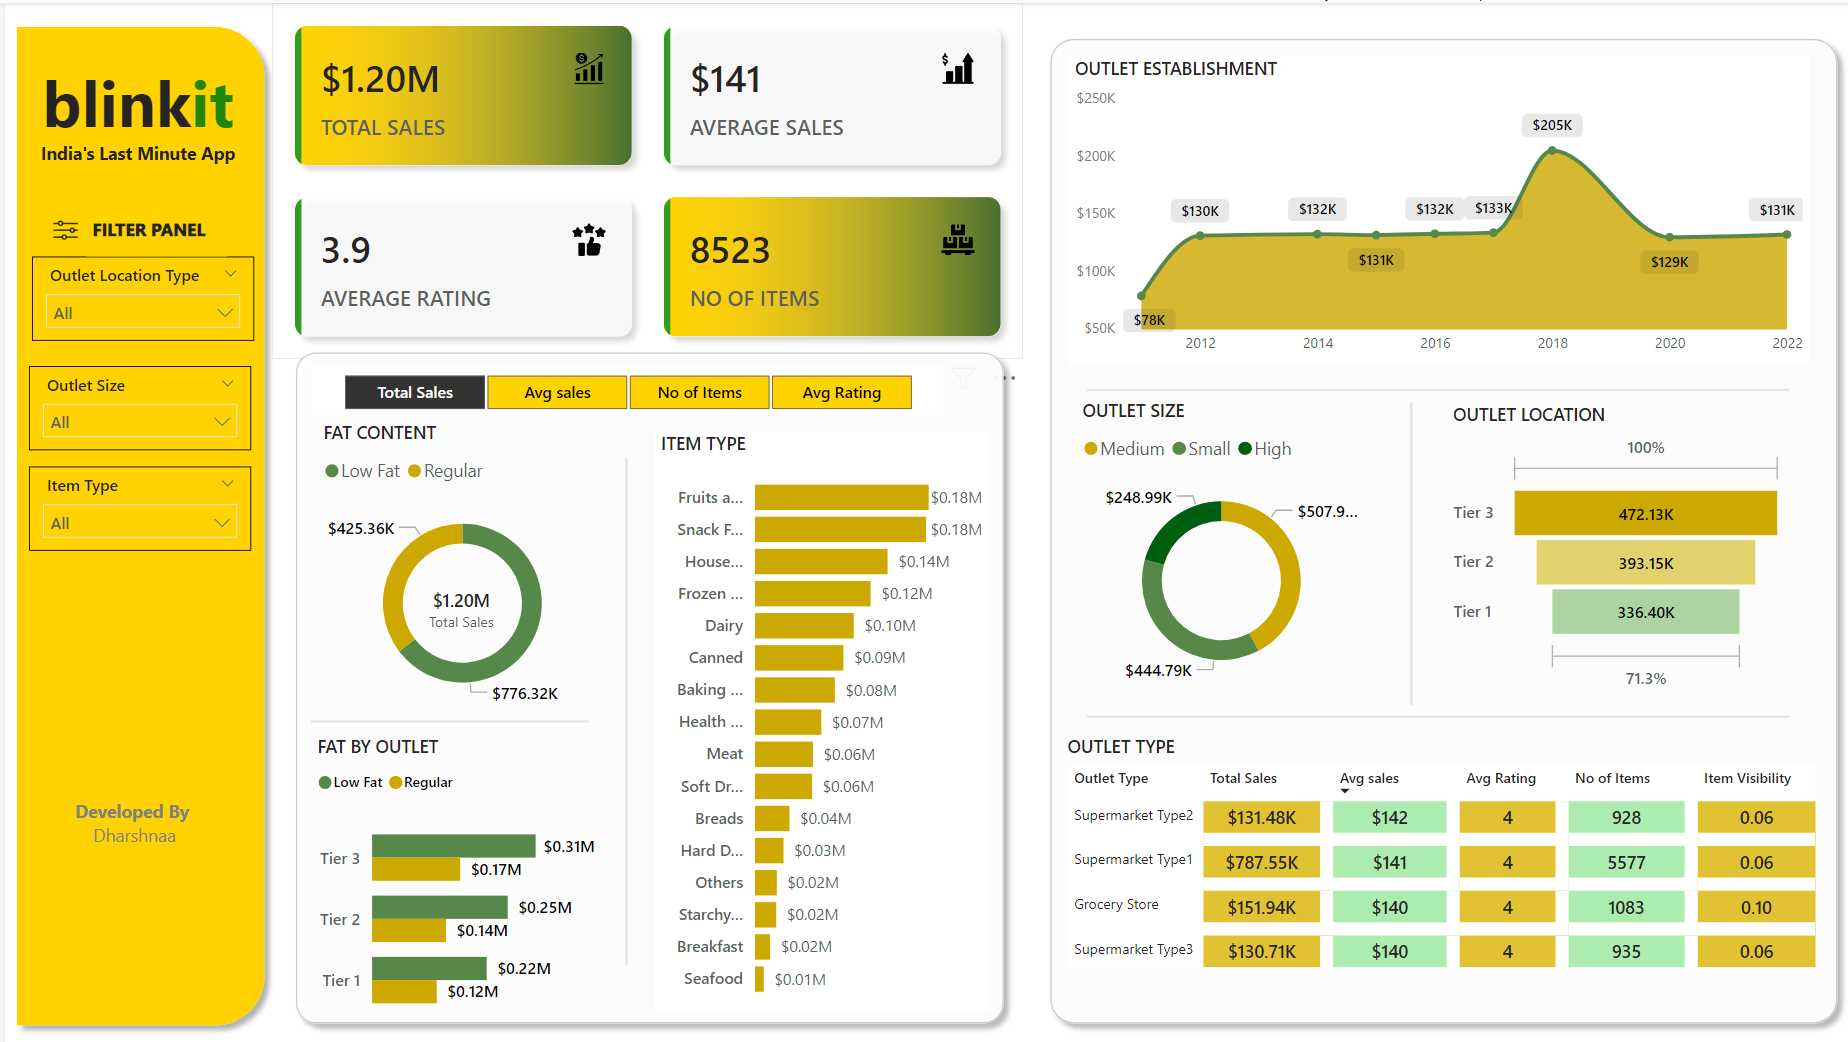

What the dashboard file says about the page in this screenshot:
{"tool":"powerbi","page":{"name":"Page 1","canvas":[1400,800],"ordinal":0},"visuals":[{"type":"shape","box":[0,8.8,206.2,776.2],"z":0},{"type":"textbox","box":[0,36.8,202.3,80.3],"z":1},{"type":"textbox","box":[15,98.6,172.2,36.8],"z":2},{"type":"cardVisual","fields":{"Data":["BlinkIT Grocery Data.Total Sales","BlinkIT Grocery Data.Avg sales","BlinkIT Grocery Data.Avg Rating","BlinkIT Grocery Data.No of Items"]},"box":[202.5,0,570,270],"z":3},{"type":"shape","box":[211.2,256.2,555,527.5],"z":4},{"type":"donutChart","title":" FAT CONTENT","fields":{"Category":["BlinkIT Grocery Data.Item Fat Content"],"Y":["BlinkIT Grocery Data.Total Sales"]},"box":[236.2,316.2,220,230],"z":7},{"type":"slicer","fields":{"Values":["Metrics.Metrics"]},"box":[232.5,275,480,37.5],"z":8},{"type":"cardVisual","fields":{"Data":["BlinkIT Grocery Data.Total Sales"]},"box":[290,425,112.5,70],"z":9},{"type":"clusteredBarChart","title":"FAT BY OUTLET","fields":{"Y":["BlinkIT Grocery Data.Total Sales"],"Category":["BlinkIT Grocery Data.Outlet Location Type"],"Series":["BlinkIT Grocery Data.Item Fat Content"]},"box":[232.5,555,220,230],"z":10},{"type":"shape","box":[232.5,537.5,211.2,16.2],"z":11},{"type":"shape","box":[447.5,345,48.8,385],"z":12},{"type":"barChart","title":"ITEM TYPE","fields":{"Category":["BlinkIT Grocery Data.Item Type"],"Y":["BlinkIT Grocery Data.Total Sales"]},"box":[492.5,325,253.8,441.2],"z":13},{"type":"shape","box":[785,18.8,615,765],"z":14},{"type":"lineChart","title":"OUTLET ESTABLISHMENT","fields":{"Category":["BlinkIT Grocery Data.Outlet Establishment Year"],"Y":["BlinkIT Grocery Data.Total Sales"]},"box":[807.5,40,562.5,235],"z":15},{"type":"donutChart","title":"OUTLET SIZE","fields":{"Y":["BlinkIT Grocery Data.Total Sales"],"Category":["BlinkIT Grocery Data.Outlet Size"]},"box":[812.5,300,220,230],"z":16},{"type":"shape","box":[821.2,286.2,533.8,16.2],"z":17},{"type":"funnel","title":"OUTLET LOCATION","fields":{"Y":["Sum(BlinkIT Grocery Data.Sales)"],"Category":["BlinkIT Grocery Data.Outlet Location Type"]},"box":[1093.8,302.5,261.2,225],"z":18},{"type":"shape","box":[821.2,537.5,533.8,8.8],"z":19},{"type":"shape","box":[1061.2,302.5,12.5,230],"z":20},{"type":"pivotTable","title":"OUTLET TYPE","fields":{"Rows":["BlinkIT Grocery Data.Outlet Type"],"Values":["BlinkIT Grocery Data.Total Sales","BlinkIT Grocery Data.Avg sales","BlinkIT Grocery Data.Avg Rating","BlinkIT Grocery Data.No of Items","Avg(BlinkIT Grocery Data.Item Visibility)"]},"box":[801.2,555,583.8,211.2],"z":23},{"type":"slicer","fields":{"Values":["BlinkIT Grocery Data.Outlet Location Type"]},"box":[20,192.5,168.8,63.8],"z":24},{"type":"slicer","fields":{"Values":["BlinkIT Grocery Data.Outlet Size"]},"box":[18.8,275,168.8,63.8],"z":25},{"type":"slicer","fields":{"Values":["BlinkIT Grocery Data.Item Type"]},"box":[18.8,351.2,168.8,63.8],"z":26},{"type":"textbox","box":[61.2,157.5,107.5,35],"z":27},{"type":"image","box":[31.2,157.5,30,30],"z":28},{"type":"textbox","box":[18.8,598.8,160,71.2],"z":29}]}

Visuals, with their boxes in screenshot pixels (x1, y1, x2, y2), scaled from the page's 1400x800 canvas onto the 1848x1042 screenshot:
shape: Rect(0, 11, 272, 1022)
textbox: Rect(0, 48, 267, 153)
textbox: Rect(20, 128, 247, 176)
cardVisual - BlinkIT Grocery Data.Total Sales x BlinkIT Grocery Data.Avg sales: Rect(267, 0, 1020, 352)
shape: Rect(279, 334, 1011, 1021)
" FAT CONTENT" donutChart: Rect(312, 412, 602, 711)
slicer - Metrics.Metrics: Rect(307, 358, 940, 407)
cardVisual - BlinkIT Grocery Data.Total Sales: Rect(383, 554, 531, 645)
"FAT BY OUTLET" clusteredBarChart: Rect(307, 723, 597, 1022)
shape: Rect(307, 700, 586, 721)
shape: Rect(591, 449, 655, 951)
"ITEM TYPE" barChart: Rect(650, 423, 985, 998)
shape: Rect(1036, 24, 1847, 1021)
"OUTLET ESTABLISHMENT" lineChart: Rect(1066, 52, 1808, 358)
"OUTLET SIZE" donutChart: Rect(1072, 391, 1363, 690)
shape: Rect(1084, 373, 1789, 394)
"OUTLET LOCATION" funnel: Rect(1444, 394, 1789, 687)
shape: Rect(1084, 700, 1789, 712)
shape: Rect(1401, 394, 1417, 694)
"OUTLET TYPE" pivotTable: Rect(1058, 723, 1828, 998)
slicer - BlinkIT Grocery Data.Outlet Location Type: Rect(26, 251, 249, 334)
slicer - BlinkIT Grocery Data.Outlet Size: Rect(25, 358, 248, 441)
slicer - BlinkIT Grocery Data.Item Type: Rect(25, 457, 248, 541)
textbox: Rect(81, 205, 223, 251)
image: Rect(41, 205, 81, 244)
textbox: Rect(25, 780, 236, 873)
